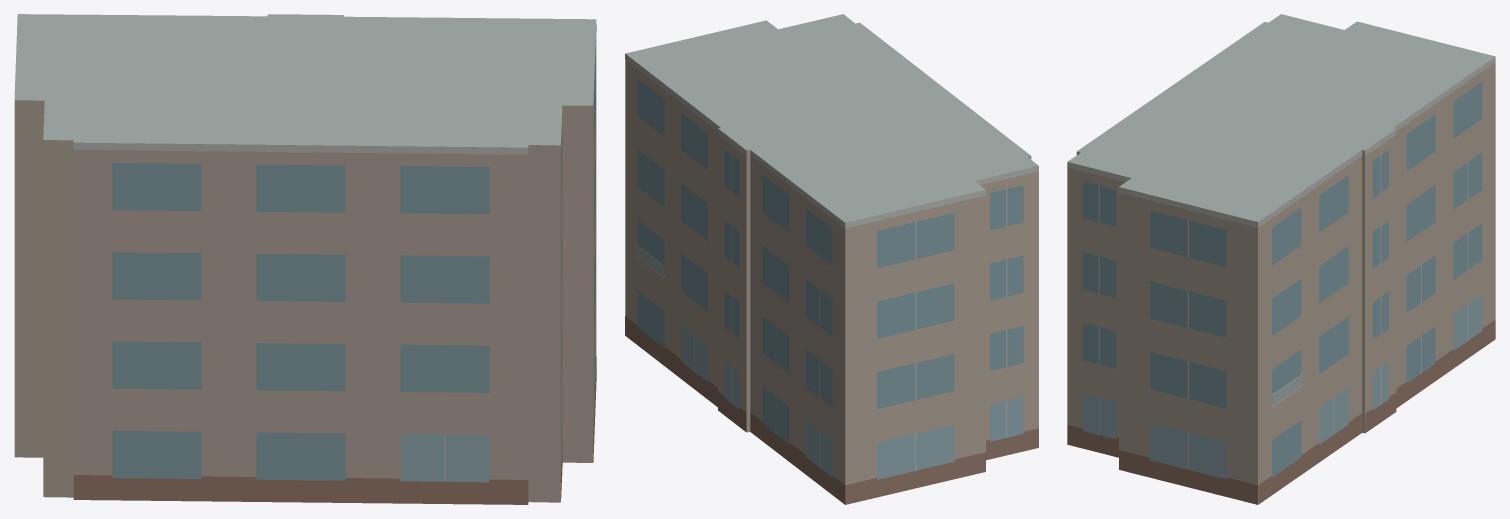
File: survey-upis-32670037.glb
3 renders of one model, left to right at view 1: azimuth 30°, elevation 25°; view 2: azimuth 150°, elevation 25°; view 3: azimuth 270°, elevation 25°, orthographic. The views are drawn at different scales.
Visible parts, largest first — view 1: survey-upis-32670037.tmp; view 2: survey-upis-32670037.tmp; view 3: survey-upis-32670037.tmp.
Part boxes in pixels (bbox=[...]): survey-upis-32670037.tmp: bbox=[14, 14, 596, 504]; survey-upis-32670037.tmp: bbox=[625, 14, 1038, 504]; survey-upis-32670037.tmp: bbox=[1067, 14, 1495, 504].
Bounding box in the file's own units: 19.26 × 12.2 × 16.75.
